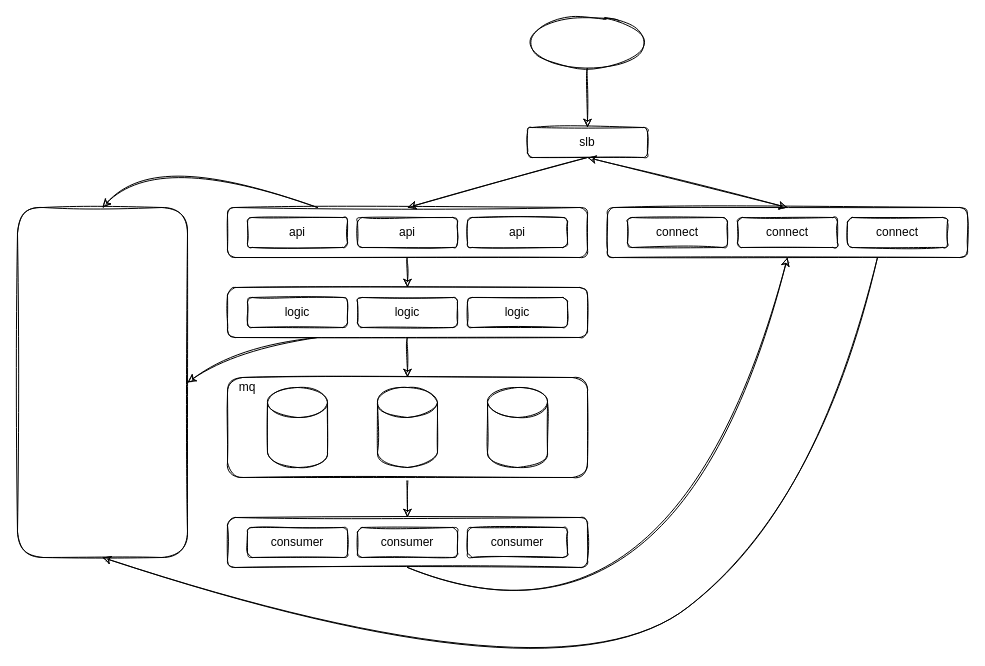
This 985x666 diagram has some shape labels left out. Here are the shapes that lost their labels. From the top down, the box of each, then its label:
(526, 16, 648, 68): client
(16, 206, 188, 558): etcd
